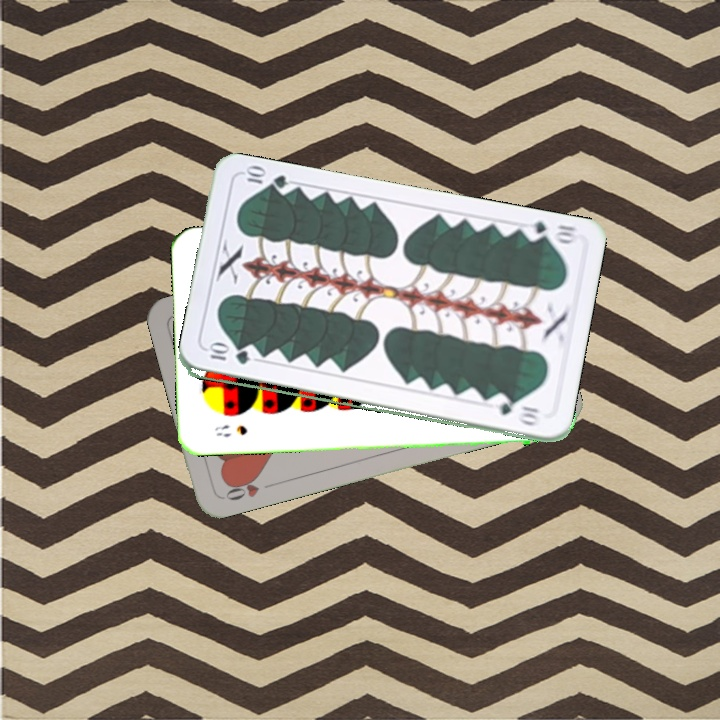G10: (520, 217, 578, 247), (204, 344, 253, 367)
HO: (221, 471, 263, 503)
S8: (211, 421, 250, 440)
